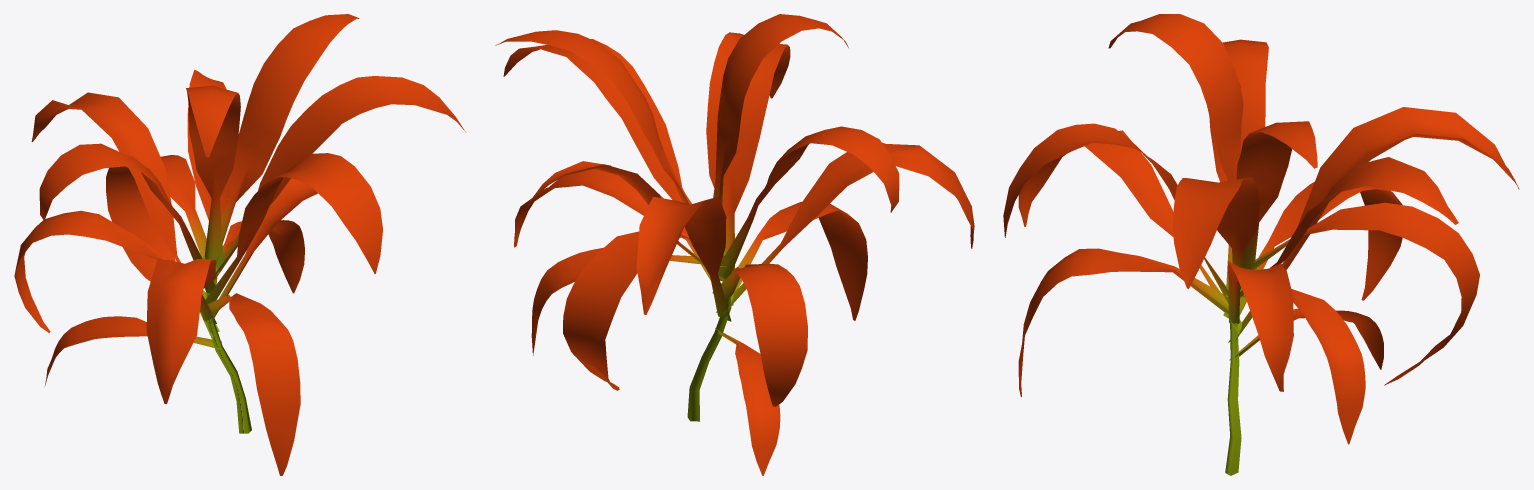
The model's file is Pink_Cordyline_LOD0_Var1_sfhhN_1.FBX.
3 renders of one model, left to right at view 1: azimuth 30°, elevation 25°; view 2: azimuth 150°, elevation 25°; view 3: azimuth 270°, elevation 25°, orthographic. The views are drawn at different scales.
Parts seen in each view (by area): view 1: Pink_Cordyline_LOD0_Var1_sfhhN_1; view 2: Pink_Cordyline_LOD0_Var1_sfhhN_1; view 3: Pink_Cordyline_LOD0_Var1_sfhhN_1.
Part boxes in pixels (x1,y1,x2,y2): Pink_Cordyline_LOD0_Var1_sfhhN_1: [14, 14, 466, 475]; Pink_Cordyline_LOD0_Var1_sfhhN_1: [495, 14, 974, 475]; Pink_Cordyline_LOD0_Var1_sfhhN_1: [1003, 14, 1519, 475].
Size of the model in its own units: 79.13 by 79.81 by 71.31.
